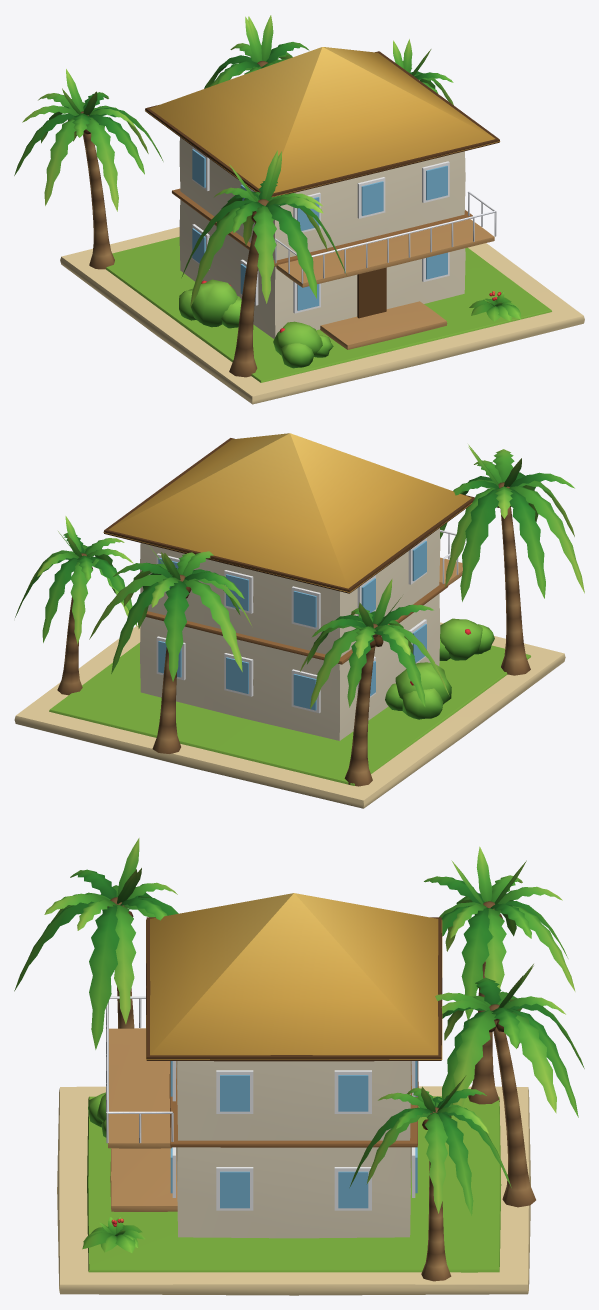
Rendered from BeachHotel_L3.obj.
3 renders of one model, top to bottom at view 1: azimuth 30°, elevation 25°; view 2: azimuth 150°, elevation 25°; view 3: azimuth 270°, elevation 25°, orthographic. The views are drawn at different scales.
Visible parts, largest first — view 1: BeachHotel_L3; view 2: BeachHotel_L3; view 3: BeachHotel_L3.
Boxes of the visible parts, left/top/right/bottom form: BeachHotel_L3: left=14, top=15, right=584, bottom=404; BeachHotel_L3: left=14, top=433, right=584, bottom=808; BeachHotel_L3: left=14, top=838, right=584, bottom=1295.
Bounding box in the file's own units: 4.95 × 2.84 × 4.82.
1 material, 1 textured.
